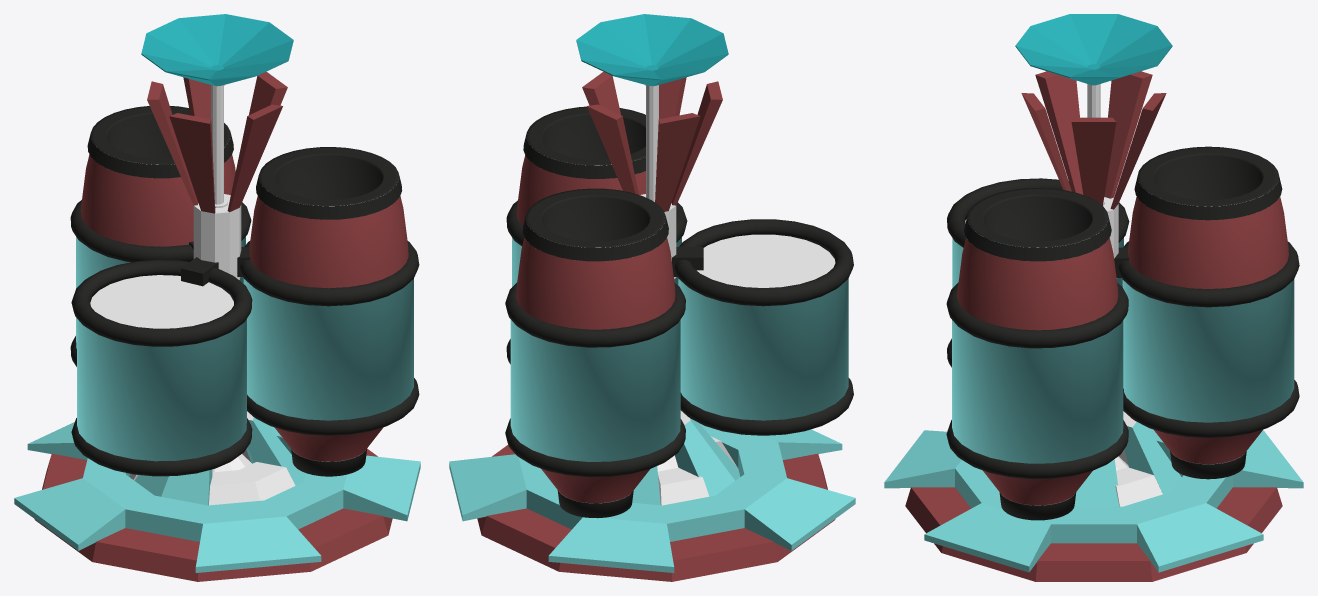
File: Rocket_2.fbx
The picture shows the model from 3 angles, left to right: view 1: azimuth 30°, elevation 25°; view 2: azimuth 150°, elevation 25°; view 3: azimuth 270°, elevation 25°; orthographic projection.
Visible parts, largest first — view 1: Rocket_lv2; view 2: Rocket_lv2; view 3: Rocket_lv2.
Part boxes in pixels (<box>): Rocket_lv2: <box>14,14,420,581</box>; Rocket_lv2: <box>449,14,855,581</box>; Rocket_lv2: <box>884,14,1303,581</box>.
Bounding box in the file's own units: 211 × 269 × 222.
